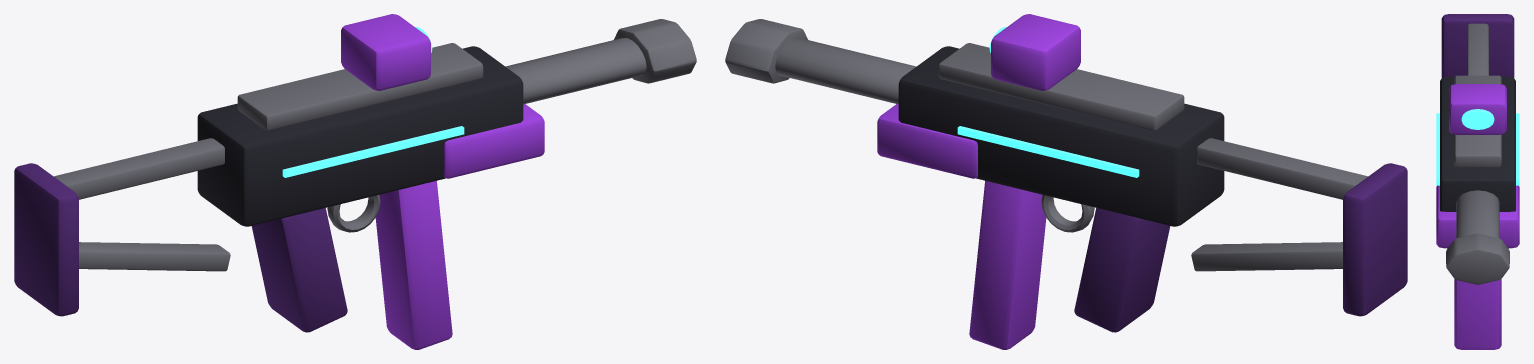
Rendered from SGP_SMG_Neon.glb.
The picture shows the model from 3 angles, left to right: view 1: azimuth 30°, elevation 25°; view 2: azimuth 150°, elevation 25°; view 3: azimuth 270°, elevation 25°; orthographic projection. The views are drawn at different scales.
Parts seen in each view (by area): view 1: SGP_SMG_Neon; view 2: SGP_SMG_Neon; view 3: SGP_SMG_Neon.
Boxes of the visible parts, x1=… form: SGP_SMG_Neon: x1=14, y1=14, x2=696, y2=349; SGP_SMG_Neon: x1=725, y1=14, x2=1407, y2=349; SGP_SMG_Neon: x1=1436, y1=14, x2=1519, y2=349.
Bounding box in the file's own units: 0.5015 × 0.2349 × 0.0736.
